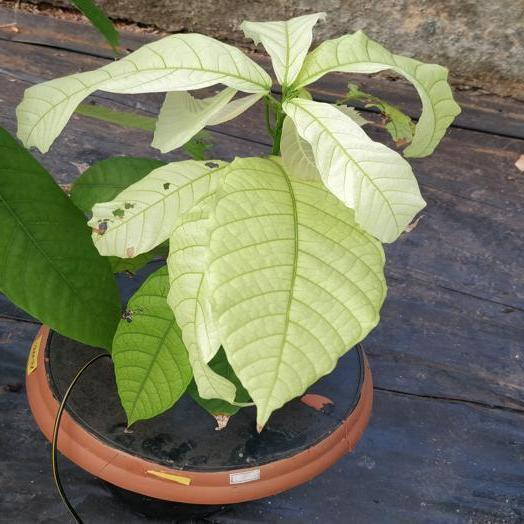Iron: (210, 159, 384, 426), (284, 98, 425, 241), (88, 160, 226, 257)
